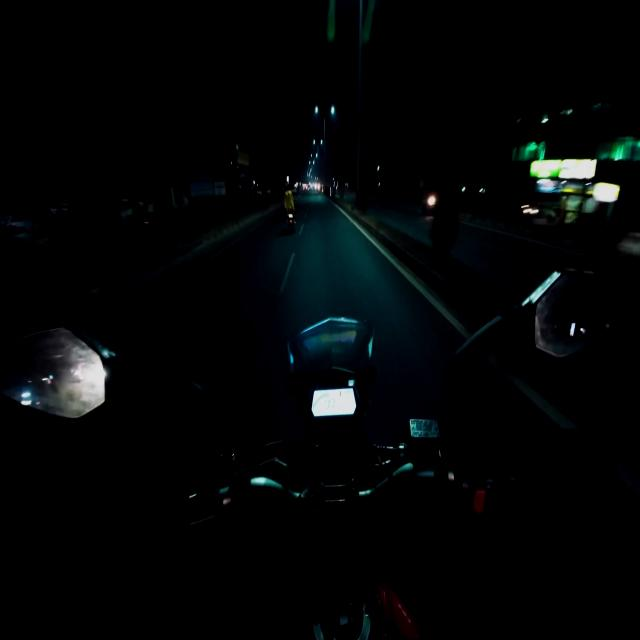motorcycle: (0, 271, 631, 639), (280, 182, 300, 235)
